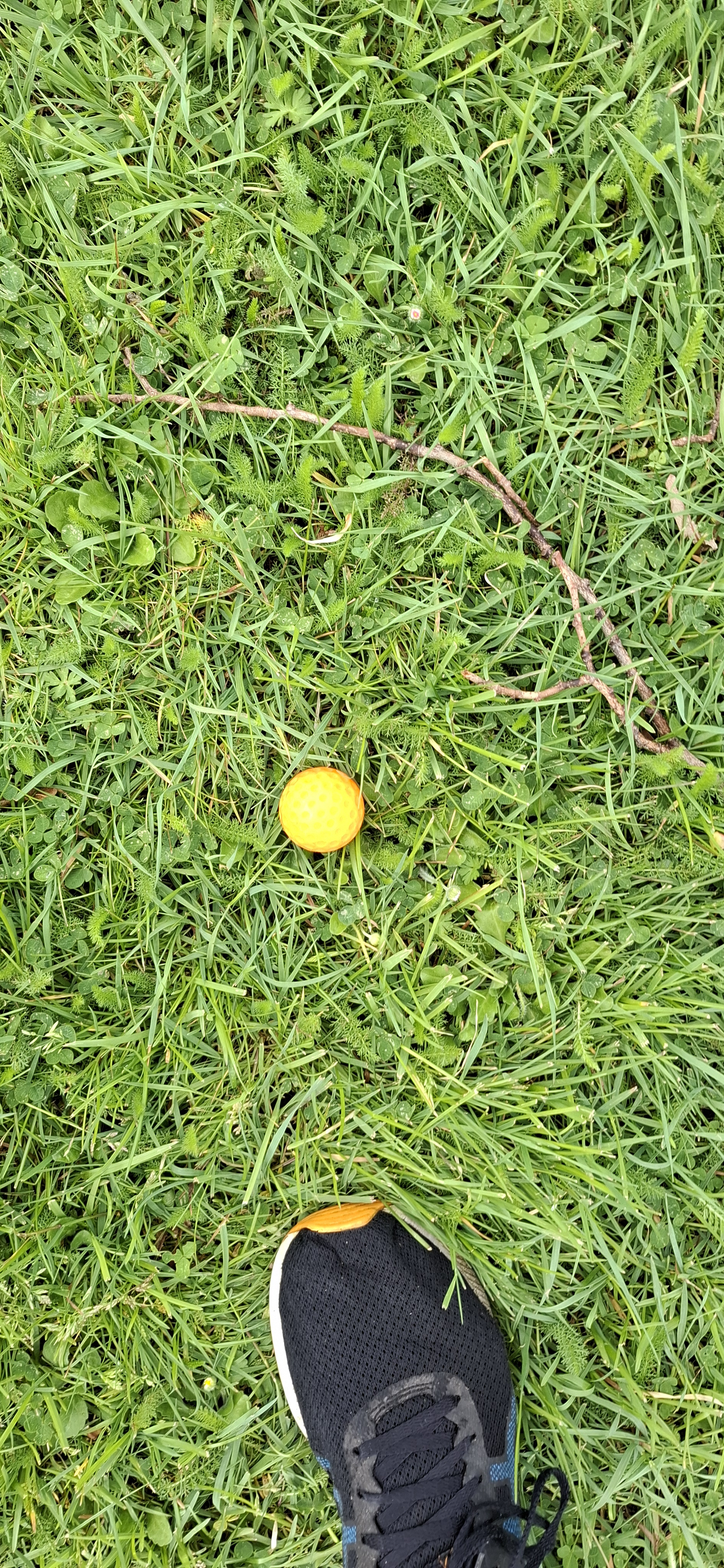ball: (354, 778, 394, 966)
